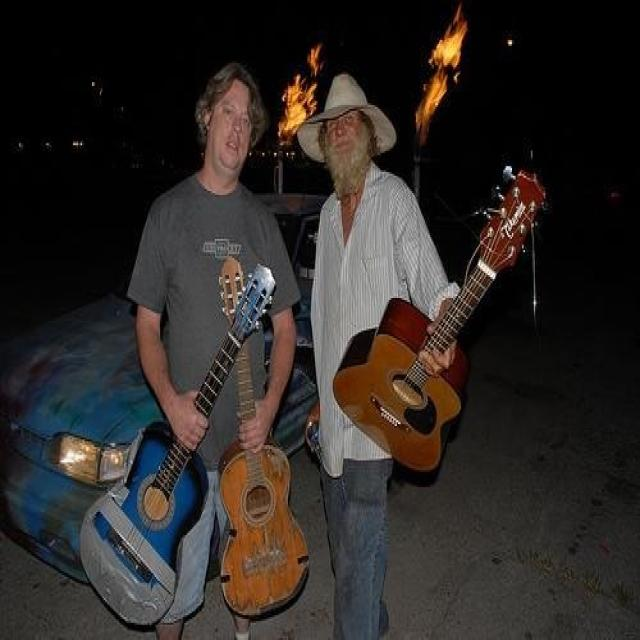guitar: (80, 260, 277, 630), (332, 161, 552, 477), (214, 256, 310, 618)
